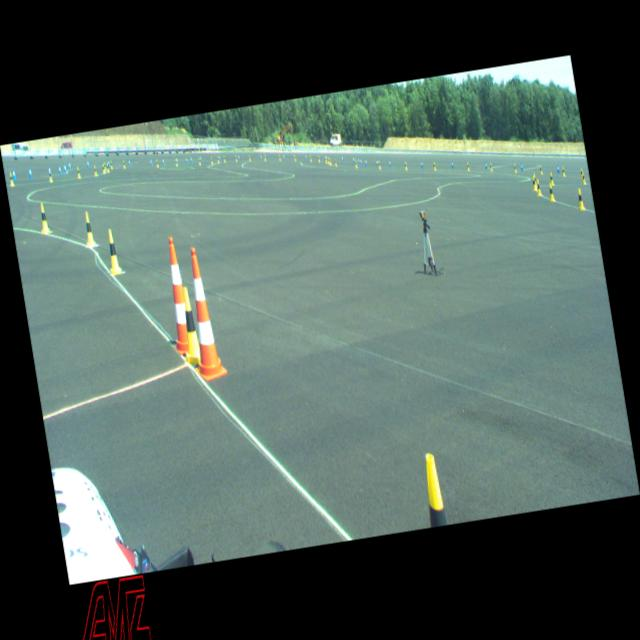blue_cone: (28, 166, 33, 178), (12, 168, 16, 181), (388, 158, 392, 169), (420, 159, 424, 170), (58, 165, 62, 175), (68, 160, 72, 170), (556, 164, 560, 174), (484, 161, 488, 170), (63, 163, 67, 172), (364, 158, 368, 167), (520, 162, 524, 171), (86, 160, 90, 168), (352, 156, 356, 164), (282, 153, 286, 161), (451, 160, 454, 170), (49, 166, 52, 176), (357, 157, 360, 166), (185, 156, 188, 164), (107, 159, 110, 167), (305, 154, 308, 162), (149, 158, 152, 165), (341, 155, 344, 162), (218, 154, 221, 161), (260, 154, 263, 161), (376, 158, 378, 168), (190, 156, 193, 162), (360, 157, 362, 166), (200, 156, 203, 162), (128, 159, 130, 166), (162, 158, 164, 165), (238, 154, 240, 160)
large_orange_cone: (176, 246, 229, 384), (156, 236, 194, 356)
yellow_cone: (418, 451, 448, 528), (175, 286, 201, 364), (102, 228, 122, 277), (81, 210, 96, 247), (36, 200, 50, 236), (576, 188, 584, 212), (548, 182, 555, 202), (535, 178, 542, 196), (532, 175, 538, 192), (548, 172, 554, 186), (8, 172, 14, 186), (581, 171, 587, 185), (539, 164, 544, 176), (333, 156, 338, 168), (48, 168, 52, 182), (466, 161, 471, 172), (580, 167, 584, 180), (433, 160, 437, 172), (404, 160, 408, 172), (562, 166, 566, 177), (378, 160, 382, 171), (76, 167, 80, 178), (513, 163, 517, 174), (354, 159, 358, 170), (488, 162, 492, 172), (93, 166, 97, 176), (278, 153, 282, 162), (248, 154, 252, 162), (106, 164, 110, 172), (324, 156, 328, 164), (327, 155, 330, 165), (318, 154, 321, 164), (156, 158, 159, 167), (110, 160, 113, 169), (309, 154, 312, 163), (102, 164, 105, 173), (198, 157, 201, 165), (294, 154, 297, 162), (235, 154, 238, 162), (222, 155, 225, 162), (217, 156, 220, 163), (175, 159, 178, 166), (122, 161, 125, 168), (210, 157, 213, 164), (264, 153, 266, 161), (104, 163, 106, 170)
